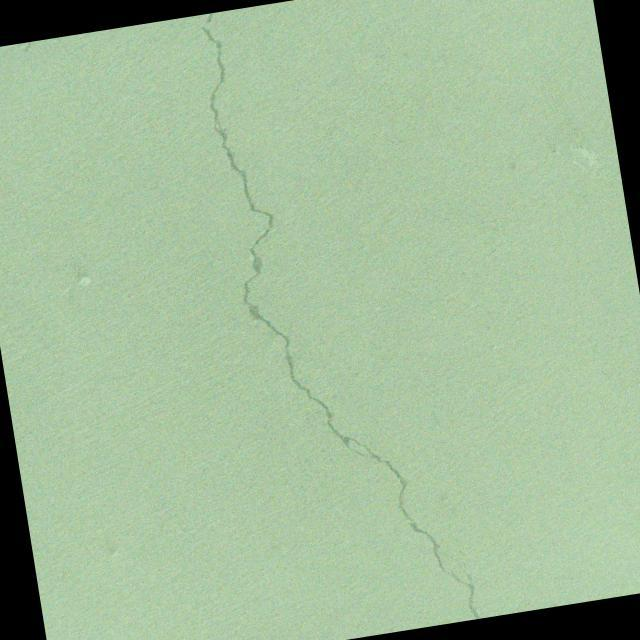crack: (193, 0, 480, 640), (452, 546, 465, 560)
